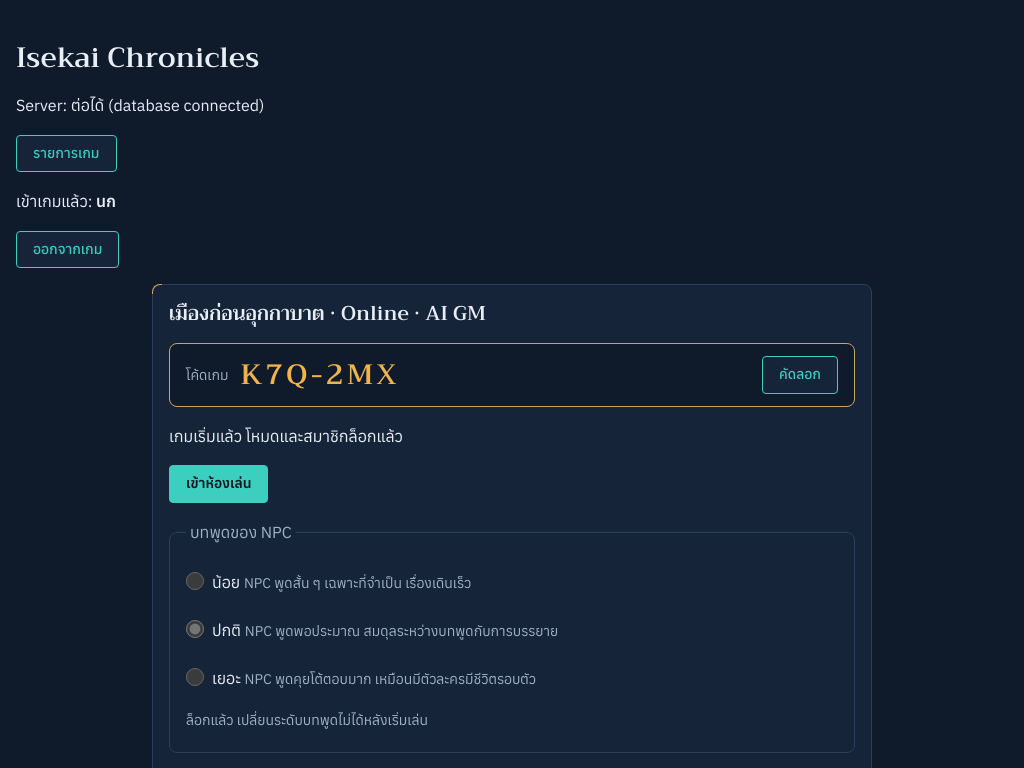
Test: GEN-056 play room (web) › C4 / C8: public feed text and your private narration are one chat, narration italic with no box
What coordinates should you click on to do the following:
click the button "เข้าห้องเล่น"
I would click on:
 (219, 484)
Its box is top-left (169, 465), bottom-right (268, 503).
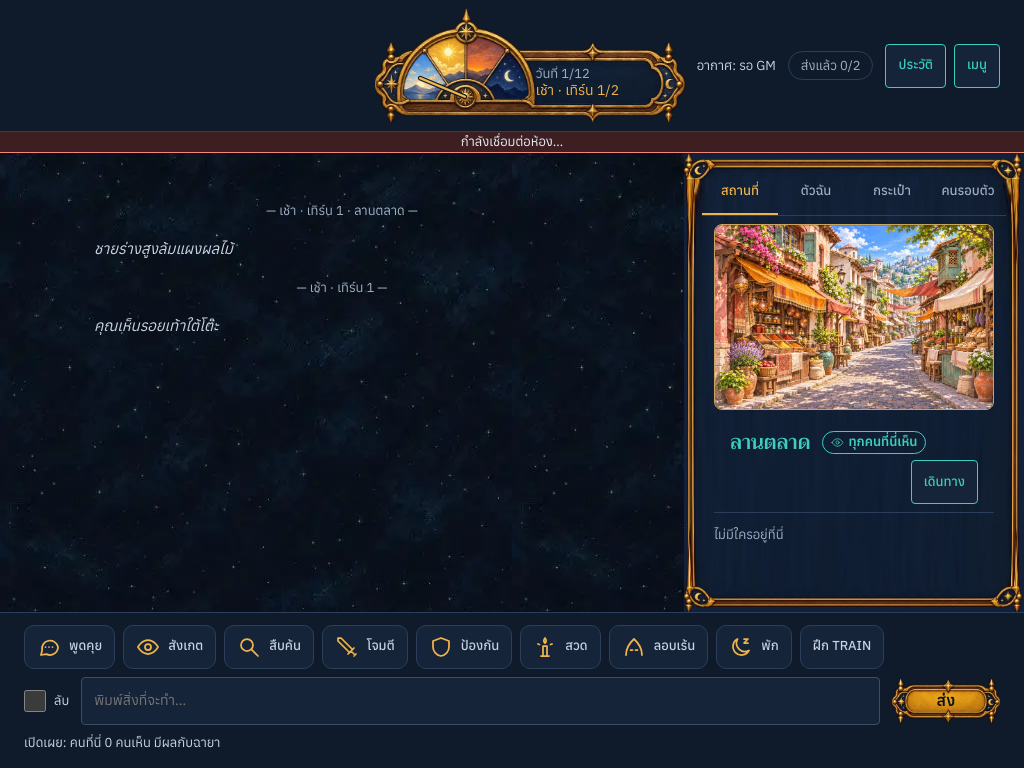
Now the text "— เช้า · เทิร์น 1 · ลานตลาด —" is shown, box top-left (266, 202), bottom-right (418, 219)
